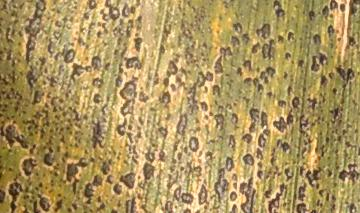tarspot: (23, 1, 46, 64), (63, 157, 88, 196), (1, 122, 29, 152), (239, 174, 257, 213), (267, 182, 289, 213), (6, 180, 24, 213), (214, 166, 229, 204), (118, 78, 139, 101), (333, 63, 356, 84), (91, 119, 105, 151), (19, 156, 38, 177), (304, 167, 323, 188), (336, 162, 353, 184), (69, 63, 86, 84), (187, 76, 199, 104), (25, 65, 38, 90), (118, 171, 136, 189), (36, 192, 51, 213), (123, 56, 144, 71), (82, 182, 95, 206), (176, 112, 188, 137), (255, 23, 272, 40), (271, 116, 288, 133), (297, 113, 309, 137), (141, 161, 155, 181), (116, 116, 128, 139), (99, 156, 113, 175), (120, 100, 135, 117), (213, 55, 225, 76), (213, 113, 225, 133), (165, 60, 179, 77), (197, 182, 207, 205), (180, 190, 195, 205), (241, 151, 255, 167), (107, 7, 121, 22), (132, 36, 143, 55), (174, 75, 187, 91), (30, 89, 42, 106), (317, 50, 329, 67), (259, 109, 269, 129), (267, 39, 276, 61), (63, 48, 75, 64), (305, 95, 317, 111), (283, 166, 295, 182), (120, 2, 131, 19), (257, 132, 268, 149), (143, 149, 156, 163), (158, 91, 171, 105), (231, 21, 244, 35), (46, 36, 55, 56), (42, 152, 54, 167), (196, 70, 206, 88), (250, 40, 262, 55), (227, 133, 237, 151), (348, 1, 360, 16), (310, 54, 320, 72), (90, 55, 101, 71), (188, 136, 199, 152), (224, 156, 235, 172), (248, 107, 259, 123), (261, 42, 270, 61), (297, 184, 306, 203), (338, 88, 348, 105), (241, 132, 254, 145), (91, 77, 105, 89), (51, 198, 62, 213), (341, 121, 352, 136), (4, 26, 13, 44), (193, 165, 203, 181), (241, 31, 251, 47), (255, 146, 265, 162), (52, 50, 64, 63), (111, 182, 123, 195), (229, 35, 241, 48), (295, 201, 308, 213), (157, 126, 168, 140), (241, 58, 252, 72), (134, 15, 143, 32), (185, 158, 193, 177), (352, 163, 360, 182), (31, 198, 41, 213), (71, 107, 81, 122), (202, 123, 209, 144), (92, 92, 104, 104), (114, 73, 123, 89), (208, 134, 224, 143), (48, 75, 59, 88), (91, 174, 102, 187), (204, 149, 215, 162), (210, 84, 221, 97), (240, 95, 251, 108), (264, 66, 277, 77), (346, 35, 357, 48), (311, 32, 322, 45), (345, 202, 358, 213), (162, 23, 172, 37), (163, 199, 173, 213), (286, 30, 296, 44), (291, 95, 301, 109), (166, 174, 175, 189), (321, 4, 330, 19), (326, 23, 335, 38), (125, 132, 136, 144), (129, 154, 140, 166), (188, 103, 199, 115), (31, 110, 44, 120), (100, 22, 110, 35), (157, 149, 167, 162), (204, 69, 214, 82), (248, 121, 258, 134), (318, 90, 328, 103), (172, 184, 180, 200), (286, 111, 294, 127), (37, 56, 46, 70), (7, 70, 16, 84), (78, 20, 87, 34), (131, 195, 138, 213), (318, 73, 327, 87), (94, 202, 105, 213), (138, 91, 149, 102), (276, 99, 288, 109), (269, 152, 277, 167), (228, 190, 238, 202), (76, 35, 85, 48), (119, 45, 128, 58), (273, 8, 286, 17), (344, 140, 357, 149), (300, 145, 309, 158), (230, 111, 238, 125), (298, 164, 306, 178), (104, 174, 115, 184), (178, 66, 188, 77), (242, 76, 252, 87), (328, 1, 339, 11), (209, 203, 220, 213), (86, 1, 98, 10), (126, 18, 135, 30), (108, 144, 117, 156), (138, 179, 147, 191), (275, 34, 284, 46), (281, 140, 289, 153), (325, 166, 333, 179), (272, 1, 282, 11), (100, 104, 109, 115), (151, 77, 160, 88), (162, 77, 171, 88), (262, 127, 271, 138), (56, 63, 63, 77), (319, 144, 326, 158), (29, 143, 37, 155), (124, 27, 132, 39), (124, 197, 130, 213), (307, 9, 315, 21), (256, 169, 264, 181), (173, 138, 180, 151), (176, 33, 183, 46), (286, 84, 293, 97), (52, 30, 61, 40), (82, 10, 91, 20), (139, 203, 148, 213), (171, 52, 180, 62), (256, 82, 265, 92), (326, 71, 336, 80), (230, 203, 239, 213), (103, 61, 111, 72), (129, 5, 137, 16), (58, 133, 66, 144), (158, 43, 166, 54), (200, 101, 208, 112), (225, 45, 233, 56), (235, 66, 243, 77), (339, 2, 347, 13), (263, 189, 271, 200), (1, 188, 6, 205), (117, 62, 124, 74), (143, 191, 149, 205), (332, 107, 339, 119), (100, 13, 109, 22), (69, 201, 78, 210), (54, 19, 62, 29), (42, 108, 50, 118), (131, 144, 139, 154), (318, 187, 325, 198), (180, 18, 185, 33), (84, 64, 92, 73), (1, 76, 9, 85), (41, 120, 50, 128), (116, 26, 124, 35), (137, 115, 145, 124), (169, 83, 177, 92), (168, 165, 176, 174), (225, 102, 233, 111), (252, 76, 258, 88), (297, 59, 305, 68), (306, 136, 315, 144), (143, 126, 149, 138), (152, 112, 158, 124), (95, 29, 102, 39), (103, 1, 113, 8), (115, 36, 122, 46), (129, 73, 139, 80), (218, 46, 225, 56), (122, 159, 130, 167), (148, 105, 156, 113), (232, 124, 240, 132), (256, 160, 264, 168), (351, 99, 359, 107), (188, 127, 196, 135), (88, 21, 95, 30), (45, 139, 54, 146), (127, 123, 134, 132), (176, 151, 183, 160), (262, 74, 269, 83), (258, 69, 265, 78), (284, 51, 291, 60), (231, 181, 238, 190), (108, 207, 118, 213), (165, 112, 171, 122), (182, 207, 192, 213), (282, 70, 288, 80), (313, 145, 319, 155), (275, 138, 281, 148), (325, 190, 330, 202), (101, 116, 108, 124), (18, 2, 25, 10), (16, 29, 23, 37), (42, 101, 50, 108), (61, 14, 68, 22), (73, 99, 81, 106), (61, 111, 69, 118), (46, 146, 54, 153), (88, 156, 96, 163), (170, 157, 178, 164), (202, 86, 209, 94), (202, 113, 209, 121), (201, 41, 208, 49), (217, 104, 224, 112), (266, 90, 273, 98), (331, 87, 338, 95), (336, 135, 343, 143), (330, 193, 337, 201), (231, 173, 238, 181), (105, 94, 111, 103), (46, 90, 52, 99), (69, 40, 75, 49), (6, 52, 12, 61), (21, 207, 30, 213), (82, 112, 88, 121), (254, 64, 260, 73), (324, 135, 330, 144), (308, 207, 317, 213), (138, 106, 144, 115), (144, 80, 150, 89), (4, 93, 11, 100), (26, 125, 33, 132), (50, 105, 57, 112), (57, 97, 64, 104), (59, 156, 66, 163), (115, 200, 122, 207), (134, 123, 141, 130), (193, 117, 200, 124), (207, 110, 214, 117), (293, 3, 300, 10), (324, 121, 331, 128), (12, 19, 20, 25), (43, 66, 49, 74), (84, 54, 90, 62), (13, 105, 19, 113), (6, 166, 14, 172), (23, 185, 29, 193), (21, 119, 29, 125), (113, 48, 119, 56), (83, 148, 89, 156), (95, 195, 101, 203), (197, 149, 203, 157), (190, 5, 196, 13), (310, 120, 316, 128), (353, 127, 359, 135), (302, 138, 308, 146), (314, 181, 320, 189), (331, 202, 337, 210), (11, 28, 16, 37), (86, 32, 91, 41), (136, 130, 141, 139), (315, 198, 320, 207), (146, 70, 151, 79), (356, 145, 360, 156), (10, 3, 17, 9), (65, 23, 71, 30), (55, 7, 61, 14), (16, 51, 23, 57), (18, 70, 24, 77), (27, 180, 33, 187), (33, 123, 40, 129), (39, 128, 46, 134), (38, 133, 44, 140), (53, 114, 60, 120), (101, 40, 108, 46), (98, 7, 104, 14), (134, 1, 141, 7), (133, 31, 139, 38), (110, 26, 117, 32), (57, 104, 63, 111), (55, 145, 61, 152), (66, 206, 72, 213), (72, 142, 79, 148), (125, 190, 131, 197), (152, 71, 159, 77), (217, 14, 223, 21), (328, 12, 334, 19), (336, 35, 342, 42), (340, 82, 347, 88), (208, 193, 215, 199), (301, 85, 307, 92), (326, 161, 332, 168), (14, 10, 19, 18), (96, 20, 101, 28), (48, 127, 53, 135), (183, 146, 188, 154), (339, 112, 343, 122), (268, 147, 276, 152), (1, 5, 7, 11), (10, 9, 14, 18), (24, 16, 30, 22), (11, 119, 17, 125), (33, 129, 39, 135), (29, 118, 35, 124), (50, 97, 54, 106), (115, 1, 121, 7), (112, 72, 118, 78), (65, 106, 71, 112), (65, 125, 71, 131), (77, 122, 81, 131), (125, 153, 131, 159), (150, 142, 156, 148), (186, 28, 192, 34), (297, 35, 303, 41), (330, 119, 336, 125), (312, 158, 318, 164), (272, 170, 276, 179), (195, 126, 201, 132), (41, 79, 46, 86), (20, 109, 27, 114), (2, 103, 9, 108), (33, 186, 40, 191), (37, 181, 42, 188), (26, 132, 33, 137), (68, 15, 73, 22), (71, 4, 78, 9), (123, 70, 128, 77), (62, 93, 69, 98), (54, 126, 59, 133), (59, 126, 64, 133), (83, 123, 88, 130), (63, 151, 68, 158), (57, 183, 64, 188), (79, 130, 86, 135), (127, 144, 132, 151), (199, 31, 204, 38), (186, 1, 191, 8), (213, 98, 218, 105), (329, 42, 334, 49), (339, 105, 344, 112), (317, 131, 324, 136), (295, 152, 300, 159), (265, 173, 270, 180), (203, 203, 208, 210), (326, 154, 331, 161), (288, 77, 295, 82), (40, 91, 45, 97), (71, 35, 76, 41), (50, 6, 55, 12), (85, 43, 90, 49), (1, 88, 6, 94), (9, 86, 14, 92), (15, 89, 20, 95), (18, 94, 23, 100), (10, 114, 16, 119), (34, 171, 39, 177), (29, 193, 34, 199), (6, 148, 12, 153), (67, 88, 72, 94), (64, 74, 69, 80), (66, 118, 72, 123), (68, 130, 74, 135), (42, 145, 47, 151), (53, 170, 58, 176), (87, 208, 93, 213), (75, 189, 81, 194), (96, 155, 102, 160), (134, 154, 140, 159), (146, 119, 151, 125), (139, 85, 145, 90), (180, 136, 186, 141), (178, 166, 184, 171), (196, 157, 201, 163), (201, 57, 206, 63), (188, 22, 193, 28), (215, 29, 220, 35), (223, 4, 229, 9), (229, 78, 234, 84), (232, 101, 237, 107), (335, 28, 340, 34), (330, 54, 335, 60), (290, 15, 295, 21), (301, 9, 306, 15), (320, 116, 325, 122), (316, 120, 322, 125), (330, 129, 335, 135), (333, 148, 339, 153), (334, 164, 340, 169), (343, 199, 348, 205), (276, 170, 282, 175), (45, 74, 49, 81), (62, 1, 69, 5), (71, 1, 78, 5), (73, 122, 77, 129), (196, 24, 200, 31), (356, 69, 360, 76), (356, 197, 360, 204), (319, 201, 323, 208), (4, 10, 9, 15), (17, 41, 22, 46), (60, 67, 65, 72), (57, 39, 62, 44), (16, 58, 21, 63), (10, 61, 15, 66), (15, 99, 20, 104), (5, 115, 10, 120), (12, 177, 17, 182), (26, 175, 31, 180), (1, 145, 6, 150), (50, 119, 55, 124), (69, 9, 74, 14), (122, 56, 127, 61), (73, 130, 78, 135), (55, 162, 60, 167), (41, 172, 46, 177), (78, 173, 83, 178), (58, 177, 63, 182), (76, 196, 81, 201), (115, 155, 120, 160), (181, 11, 186, 16), (189, 43, 194, 48), (199, 51, 204, 56), (199, 14, 204, 19), (258, 90, 263, 95), (289, 59, 294, 64), (267, 169, 272, 174), (289, 73, 294, 78), (319, 108, 324, 113), (12, 95, 18, 99), (17, 112, 21, 118), (1, 108, 7, 112), (22, 194, 26, 200), (48, 135, 54, 139), (63, 145, 69, 149), (48, 178, 54, 182), (48, 188, 54, 192), (56, 193, 62, 197), (77, 136, 81, 142), (77, 86, 83, 90), (108, 198, 114, 202), (173, 204, 177, 210), (194, 209, 200, 213), (194, 18, 198, 24), (225, 80, 229, 86), (228, 84, 232, 90), (329, 108, 333, 114), (282, 201, 286, 207), (228, 1, 236, 4), (1, 15, 4, 22), (62, 43, 66, 48), (46, 15, 50, 20), (74, 30, 78, 35), (7, 48, 12, 52), (22, 203, 26, 208), (25, 194, 29, 199), (28, 199, 32, 204), (122, 41, 126, 46), (48, 169, 52, 174), (73, 135, 77, 140), (86, 133, 91, 137), (103, 151, 107, 156), (106, 150, 111, 154), (117, 151, 122, 155), (136, 174, 140, 179), (187, 69, 191, 74), (316, 10, 321, 14), (299, 69, 304, 73), (316, 115, 320, 120), (334, 128, 338, 133), (351, 187, 355, 192), (2, 1, 8, 4), (1, 26, 3, 35), (81, 210, 87, 213), (2, 46, 6, 50), (8, 101, 12, 105), (1, 94, 3, 102), (43, 185, 47, 189), (49, 182, 53, 186), (104, 193, 108, 197), (119, 144, 123, 148), (193, 14, 197, 18), (1, 50, 4, 55), (1, 112, 3, 119), (9, 1, 15, 3), (1, 155, 3, 161), (1, 73, 2, 81), (1, 101, 2, 108), (1, 163, 2, 170), (1, 171, 2, 178), (1, 21, 2, 27)
